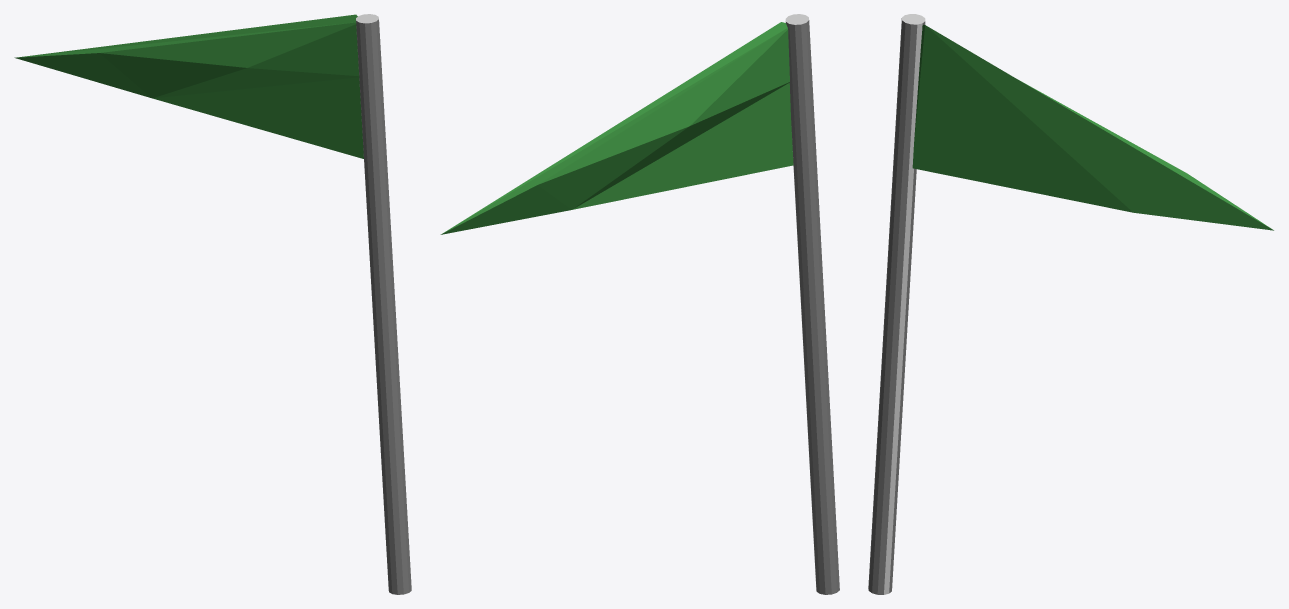
Rendered from flag.gltf.
The picture shows the model from 3 angles, left to right: view 1: azimuth 90°, elevation 25°; view 2: azimuth 150°, elevation 25°; view 3: azimuth 270°, elevation 25°; orthographic projection. The views are drawn at different scales.
Parts seen in each view (by area): view 1: node_MeshObject1160752512-PolyPaper22; view 2: node_MeshObject1160752512-PolyPaper22; view 3: node_MeshObject1160752512-PolyPaper22.
Boxes of the visible parts, x1,y1,x2,y2 form: node_MeshObject1160752512-PolyPaper22: (14,14,411,594); node_MeshObject1160752512-PolyPaper22: (440,14,839,594); node_MeshObject1160752512-PolyPaper22: (868,14,1273,594).
Bounding box in the file's own units: 0.284 × 0.7855 × 0.5.
